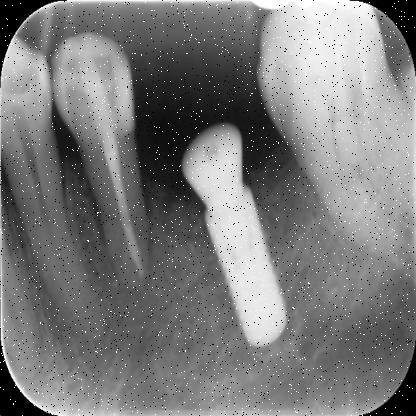ITI: (199, 184, 294, 353)
